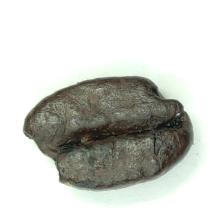NG: (24, 128, 62, 182), (147, 78, 182, 110)
